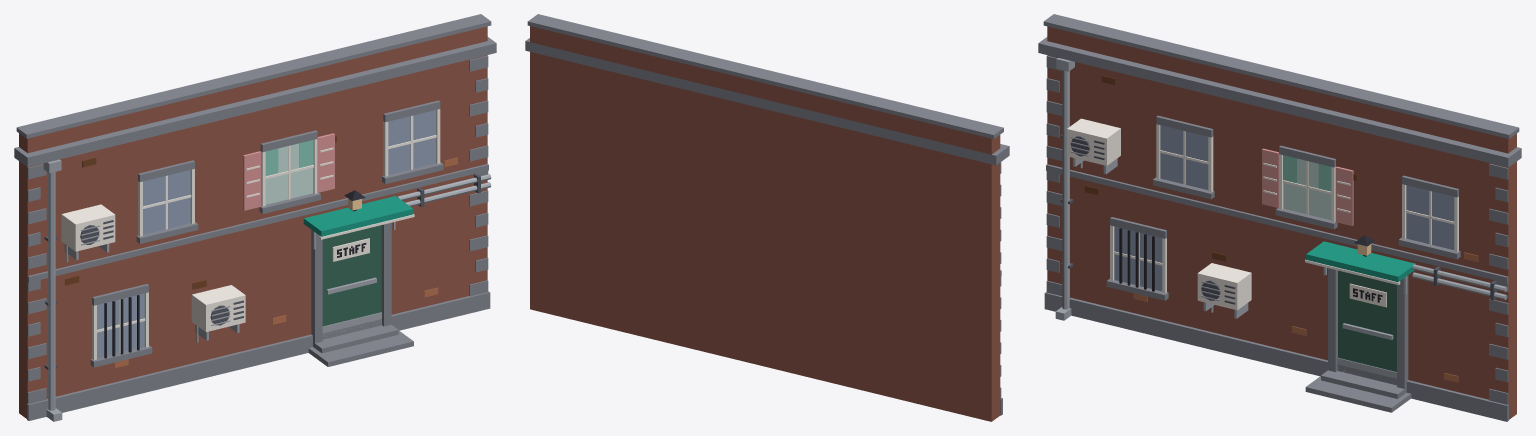
The model's file is CatCafe_Alley_WallDoor.fbx.
3 views of the same model, side by side, from view 1: azimuth 30°, elevation 25°; view 2: azimuth 150°, elevation 25°; view 3: azimuth 330°, elevation 25° (orthographic).
Visible parts, largest first — view 1: CatCafe_Alley_WallDoor, CatCafe_Alley_WallDoor_Pane; view 2: CatCafe_Alley_WallDoor; view 3: CatCafe_Alley_WallDoor, CatCafe_Alley_WallDoor_Pane.
Part boxes in pixels (x1,y1,x2,y2): CatCafe_Alley_WallDoor: (14,14,496,421); CatCafe_Alley_WallDoor_Pane: (265,143,313,204); CatCafe_Alley_WallDoor: (525,14,1009,421); CatCafe_Alley_WallDoor: (1038,14,1521,421); CatCafe_Alley_WallDoor_Pane: (1283,158,1331,219).
Bounding box in the file's own units: 30.6 × 17.85 × 3.4.
1 material, 1 textured.
